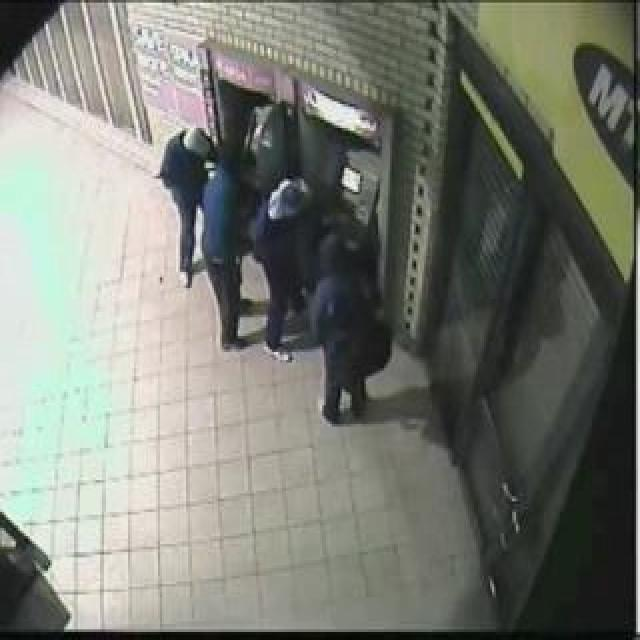thief: (154, 129, 376, 310)
